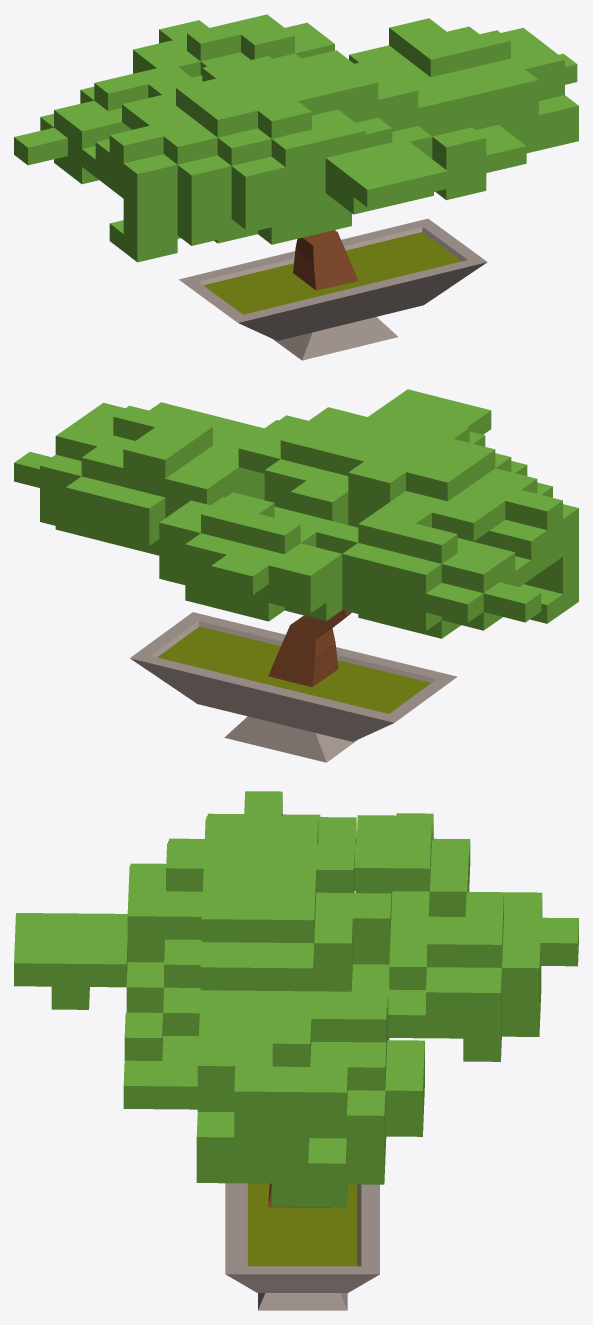
File: Bonsai 2.fbx
3 renders of one model, top to bottom at view 1: azimuth 30°, elevation 25°; view 2: azimuth 150°, elevation 25°; view 3: azimuth 270°, elevation 25°, orthographic. The views are drawn at different scales.
Parts seen in each view (by area): view 1: Cube; view 2: Cube; view 3: Cube.
Boxes of the visible parts, <box> form: Cube: <box>14,14,578,360</box>; Cube: <box>14,389,578,762</box>; Cube: <box>14,791,578,1310</box>.
Size of the model in its own units: 1101 by 572 by 803.
